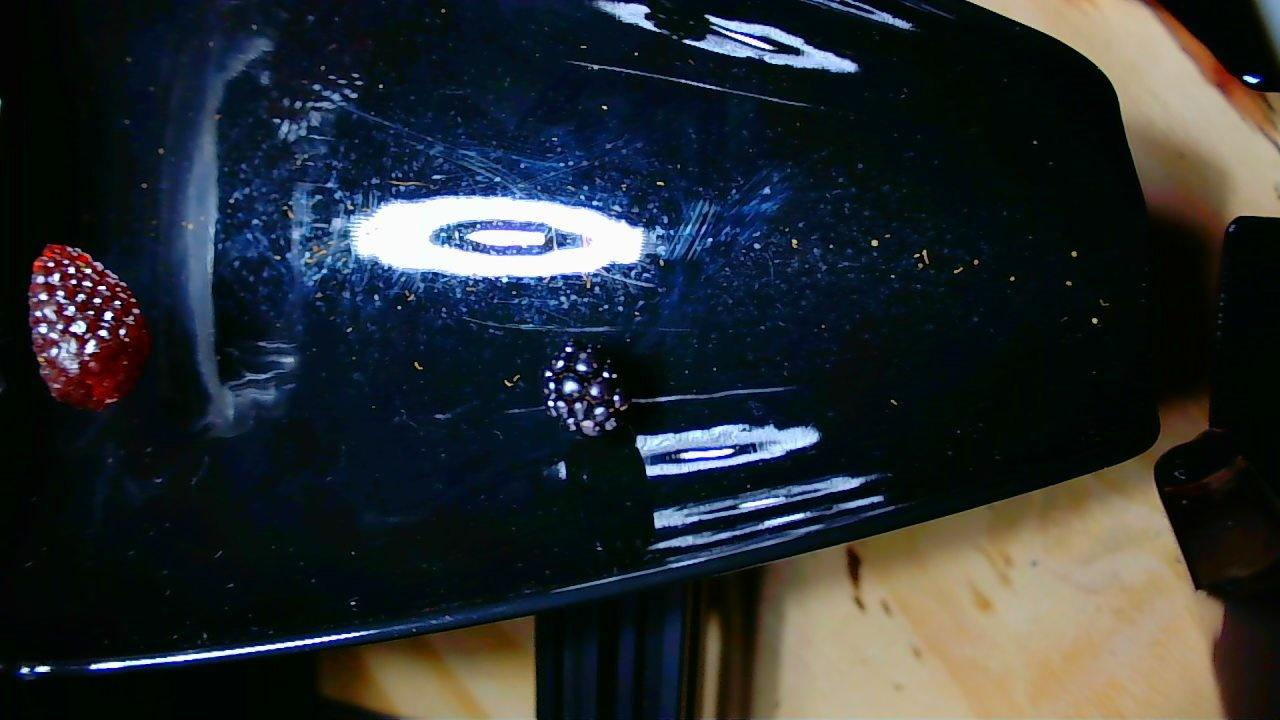berry: (29, 244, 150, 410), (543, 342, 628, 436)
